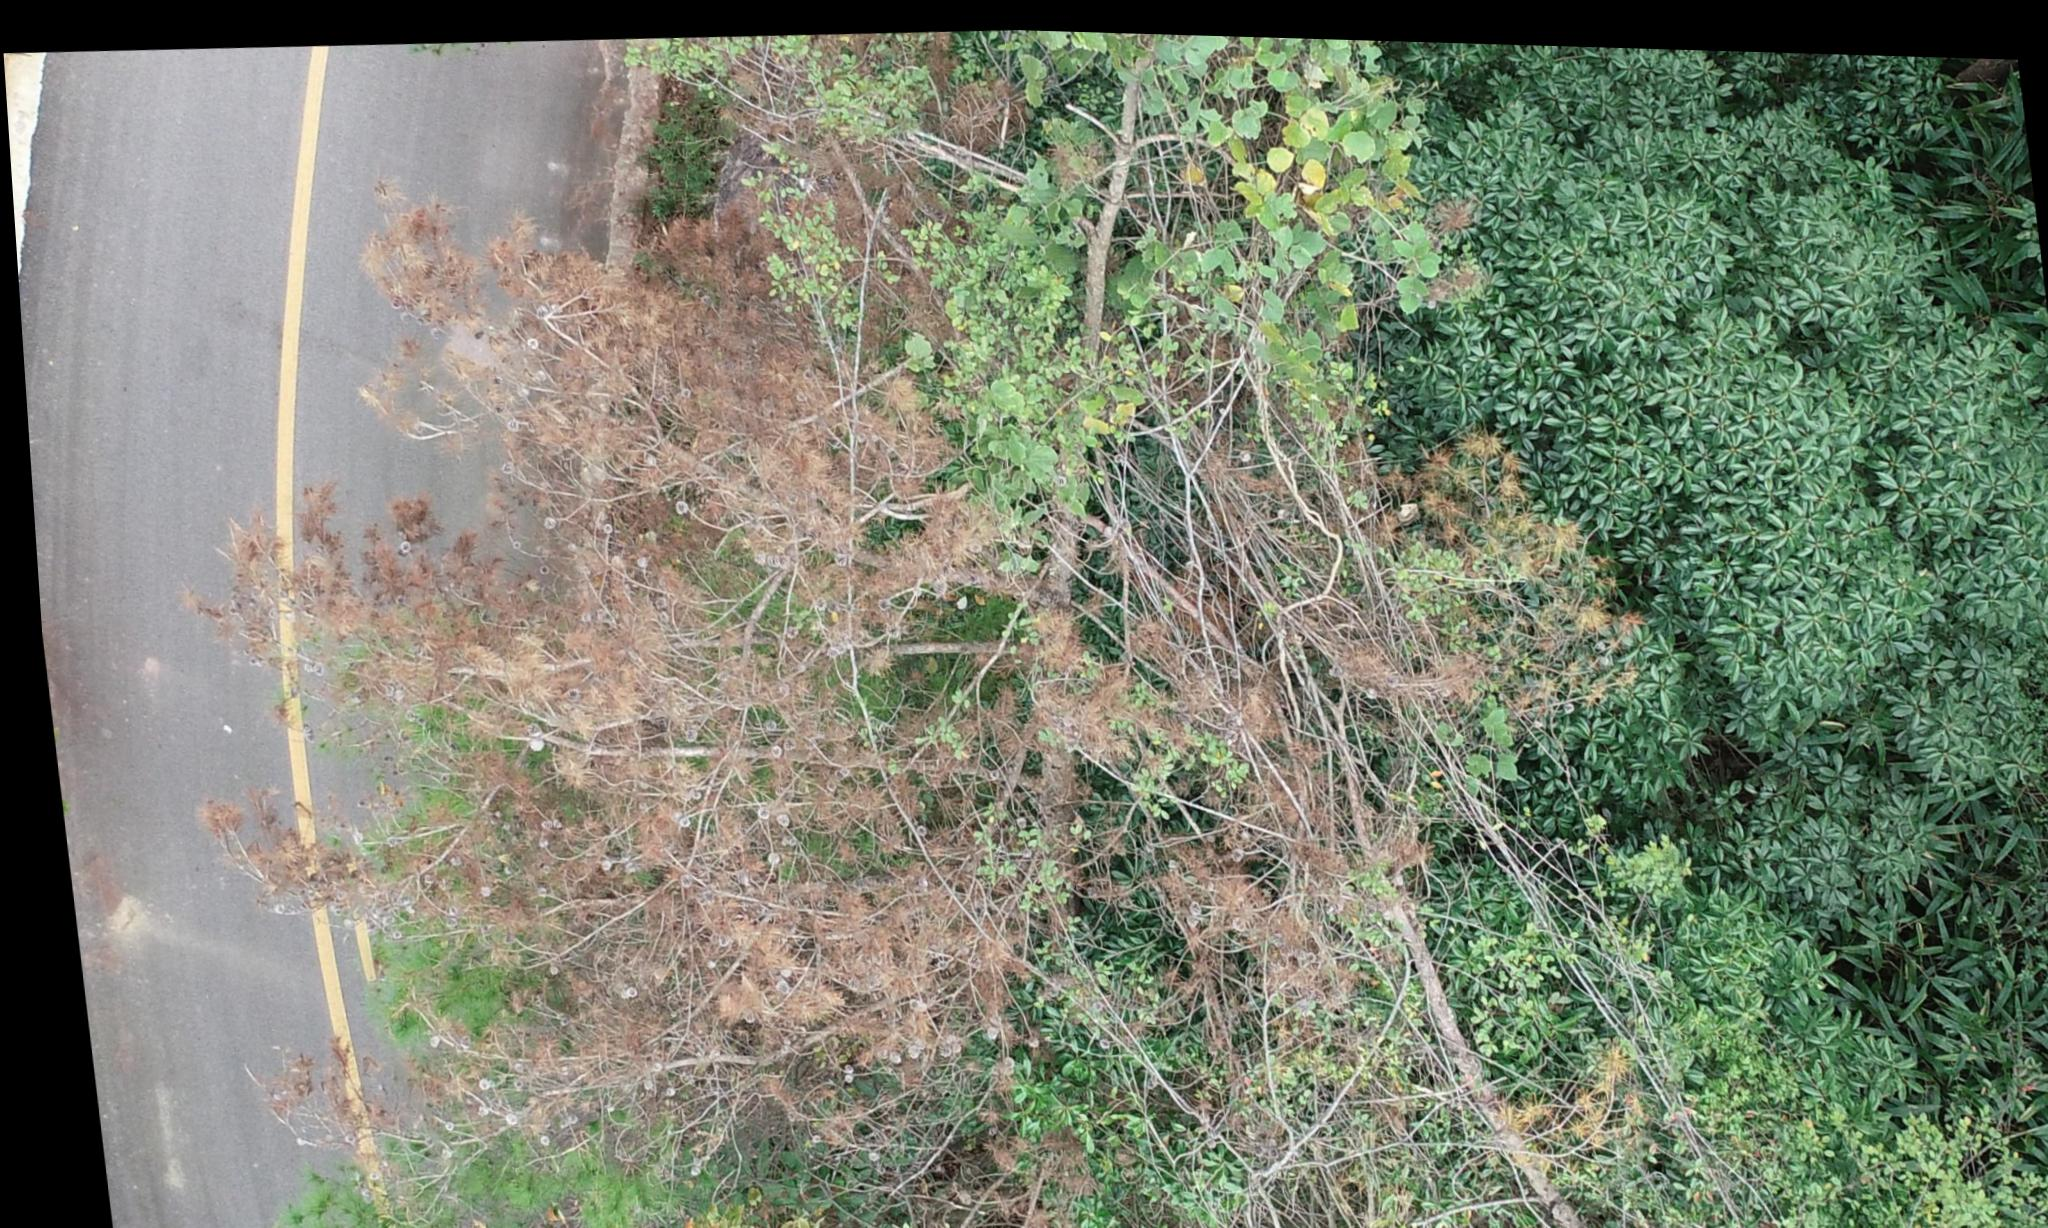heavy: (107, 34, 1357, 1219)
